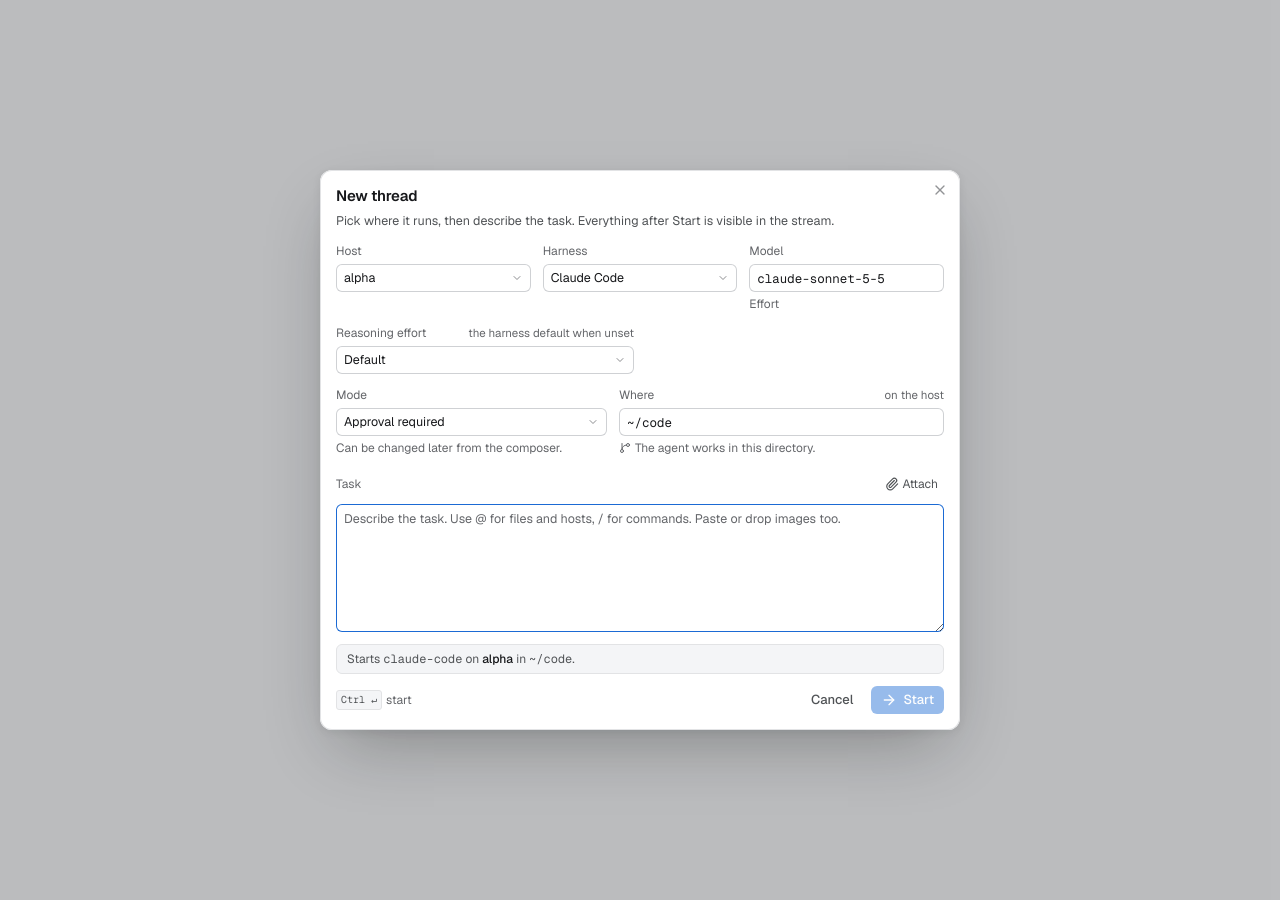
NewThreadDialog drafts › switches host and draft together when the user picks another online host
Press the mouse on the button with aria-label "Host: alpha": x=433, y=278 [336,264,531,292]
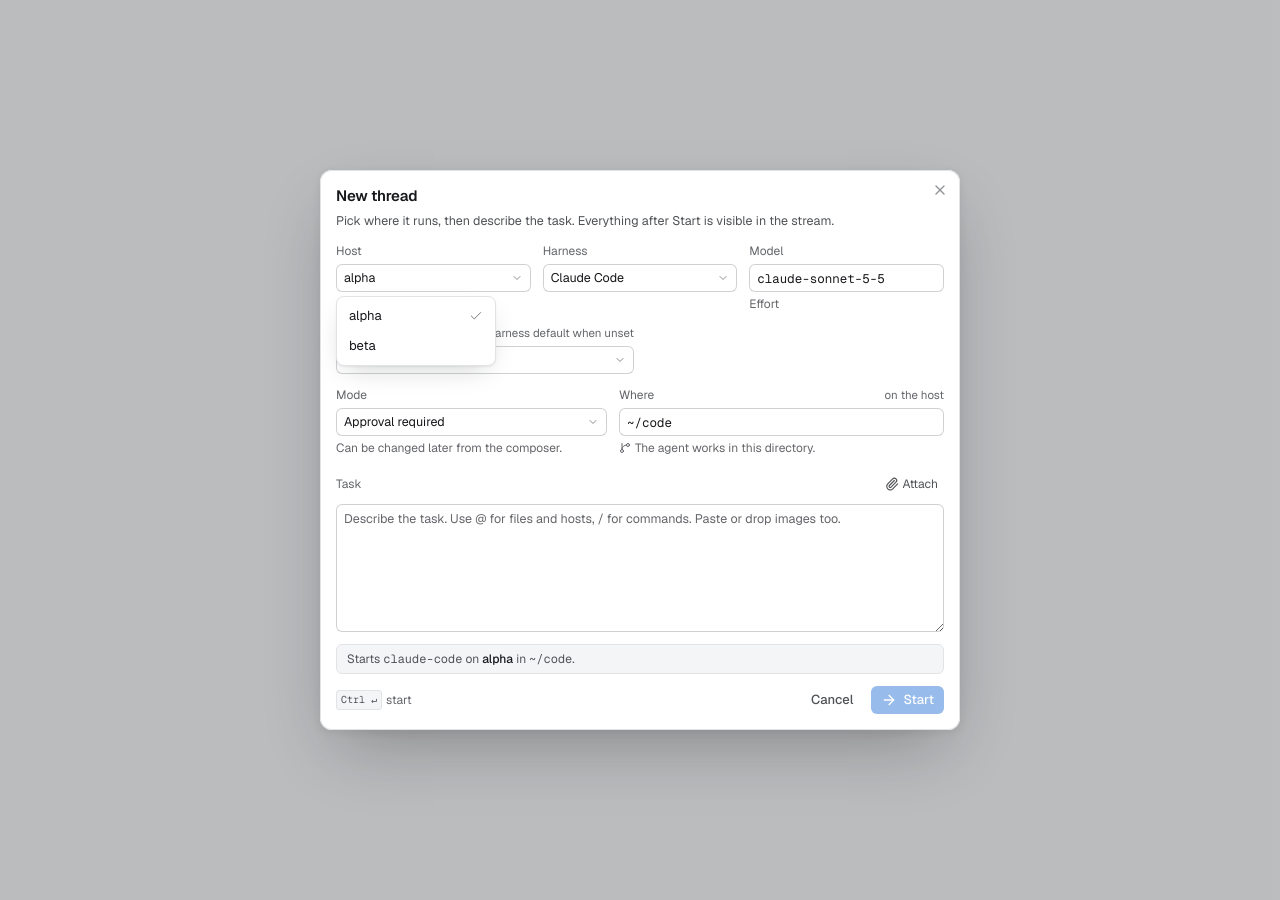
Click the menu item "beta": x=362, y=346 [349,337,376,354]
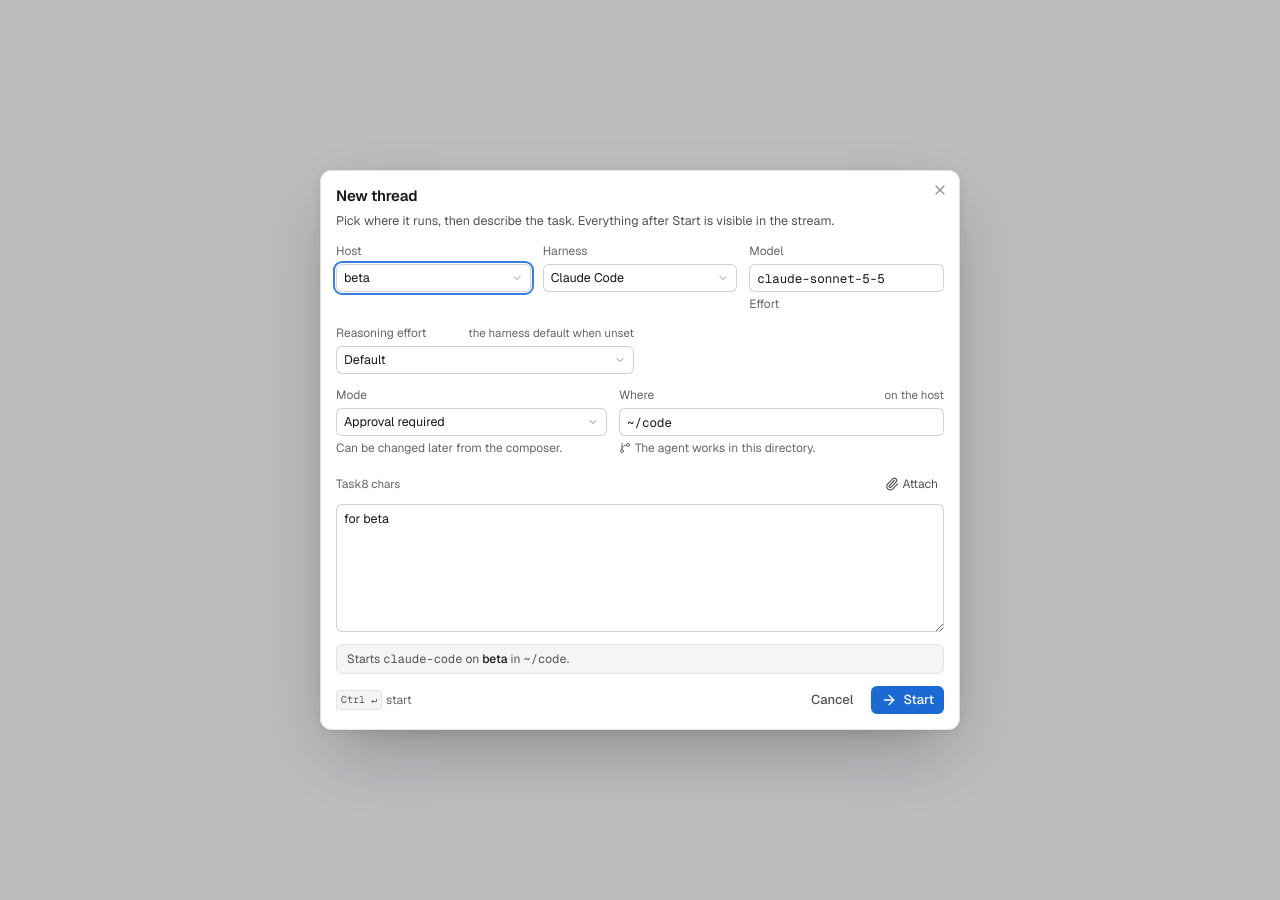
Now the text box with id "new-thread-task" holds "for beta", box [336,504,944,632]
Now the button with aria-label "Host: beta" is shown, box [336,264,531,292]
